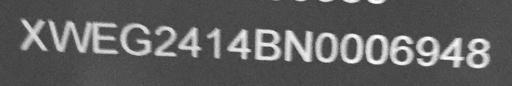letter: (47, 17, 91, 56), (17, 16, 51, 52), (283, 26, 313, 65), (90, 20, 122, 56), (252, 25, 282, 63), (120, 21, 152, 56), (176, 24, 204, 60), (226, 25, 254, 61), (412, 34, 442, 67), (150, 23, 178, 57), (388, 30, 414, 65), (465, 36, 493, 68), (438, 35, 466, 66), (314, 30, 338, 64), (364, 33, 388, 67), (339, 31, 363, 63), (204, 25, 226, 59)
